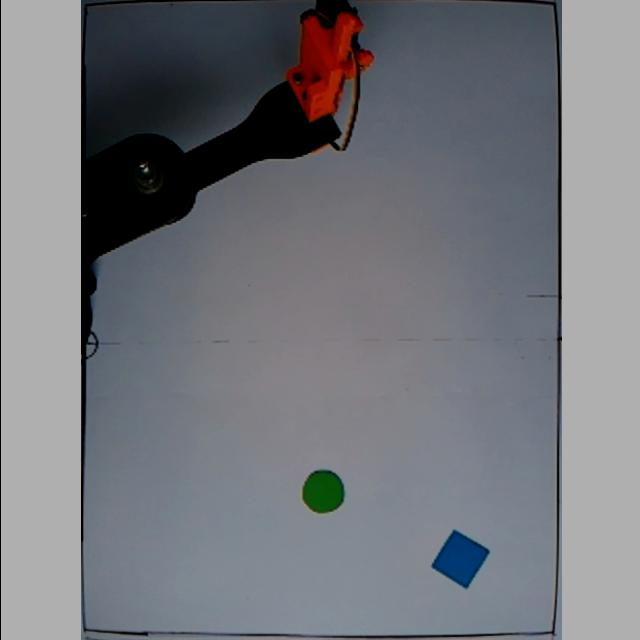blueSquare: (428, 530, 488, 590)
greenCircle: (298, 470, 342, 514)
